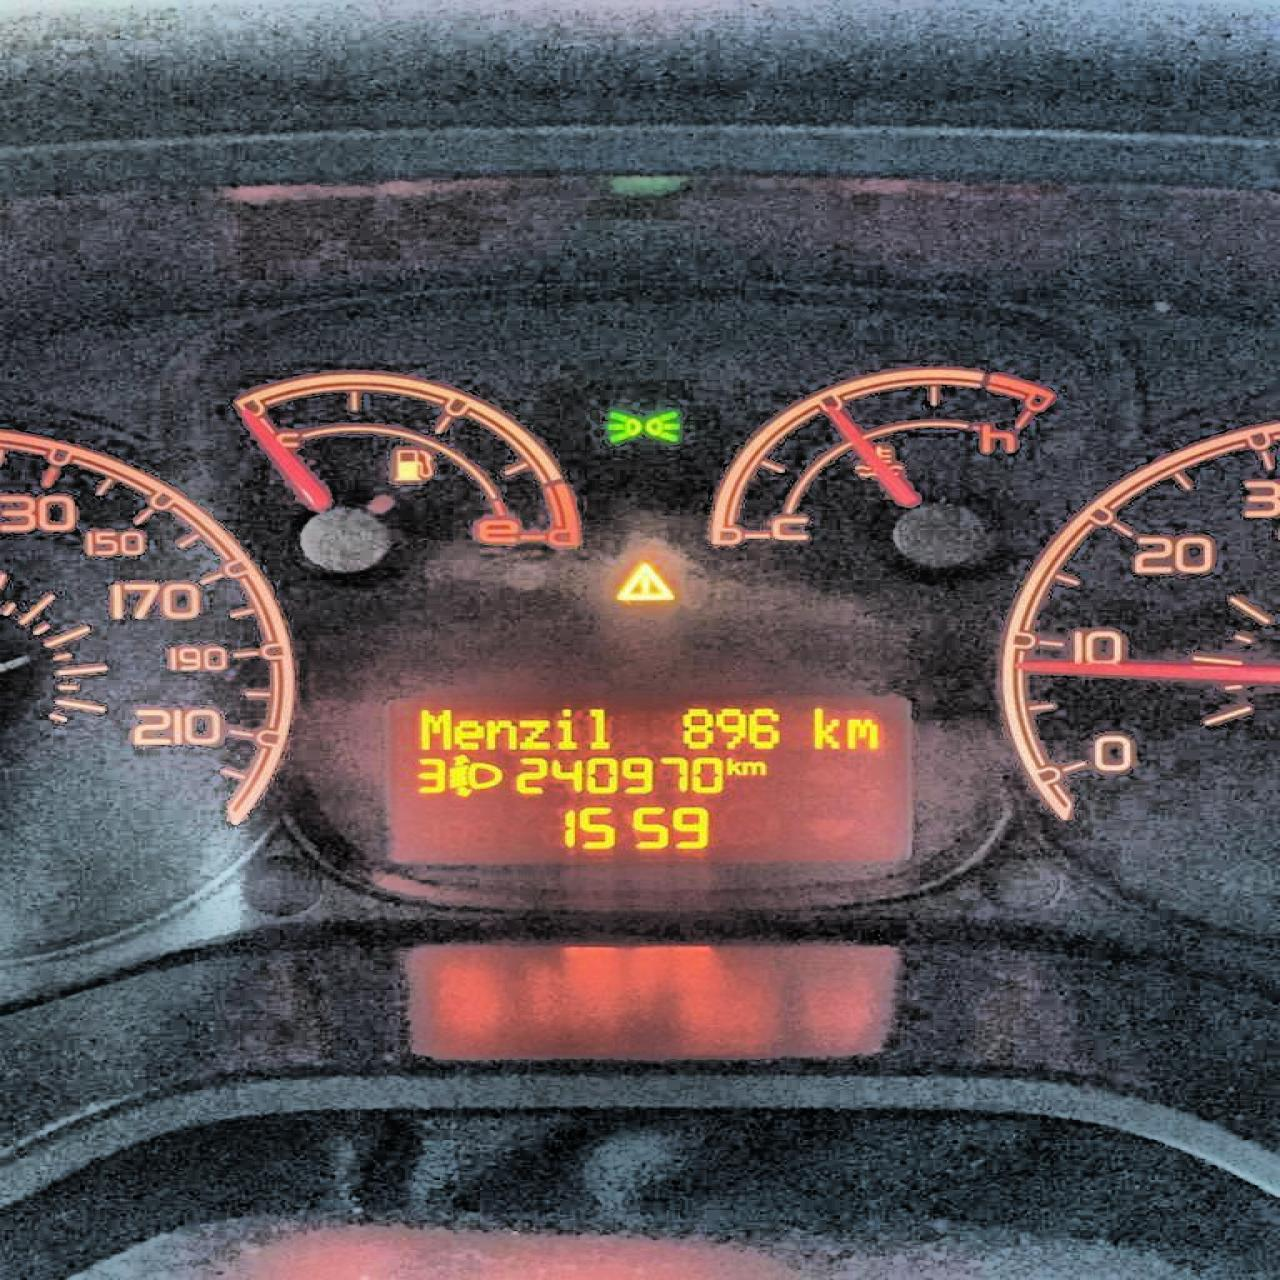0: (584, 754, 619, 794), (688, 754, 723, 794)
1: (557, 802, 576, 850)
2: (511, 754, 546, 796)
3: (411, 756, 445, 795)
4: (549, 756, 581, 794)
5: (626, 802, 667, 850), (577, 804, 615, 851)
6: (747, 703, 782, 751)
7: (656, 754, 687, 795)
8: (676, 704, 715, 750)
9: (668, 804, 708, 851), (618, 755, 655, 795), (715, 704, 743, 750)
X: (416, 703, 451, 753), (809, 702, 844, 750), (581, 703, 612, 751), (843, 715, 880, 750), (515, 716, 550, 751), (551, 704, 577, 751), (483, 716, 515, 751), (451, 717, 482, 751), (742, 757, 767, 776), (723, 754, 740, 775)
odometer: (375, 686, 920, 873)
